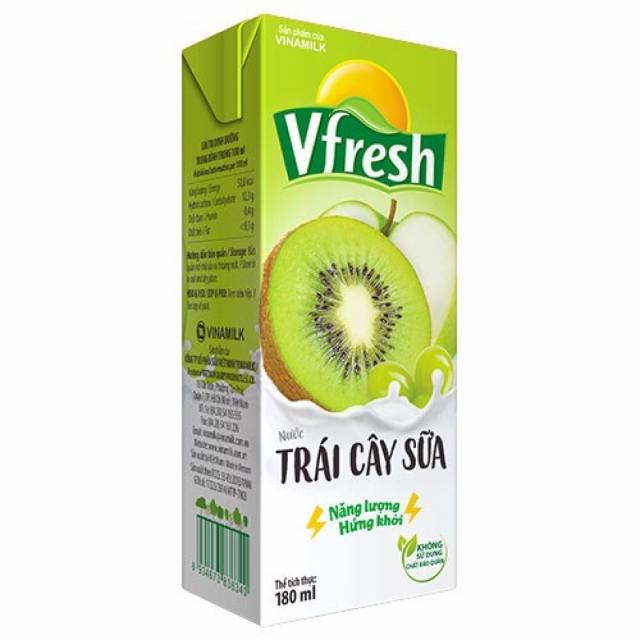non_white_jug: (132, 9, 484, 632)
